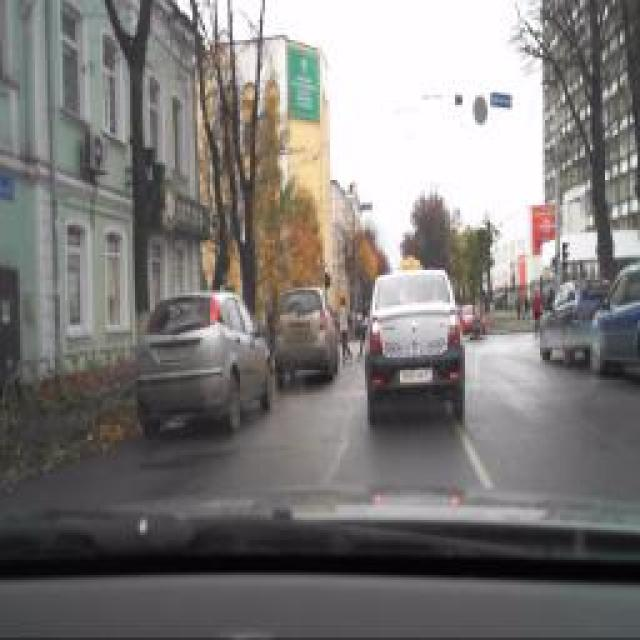sign: (490, 91, 512, 109)
